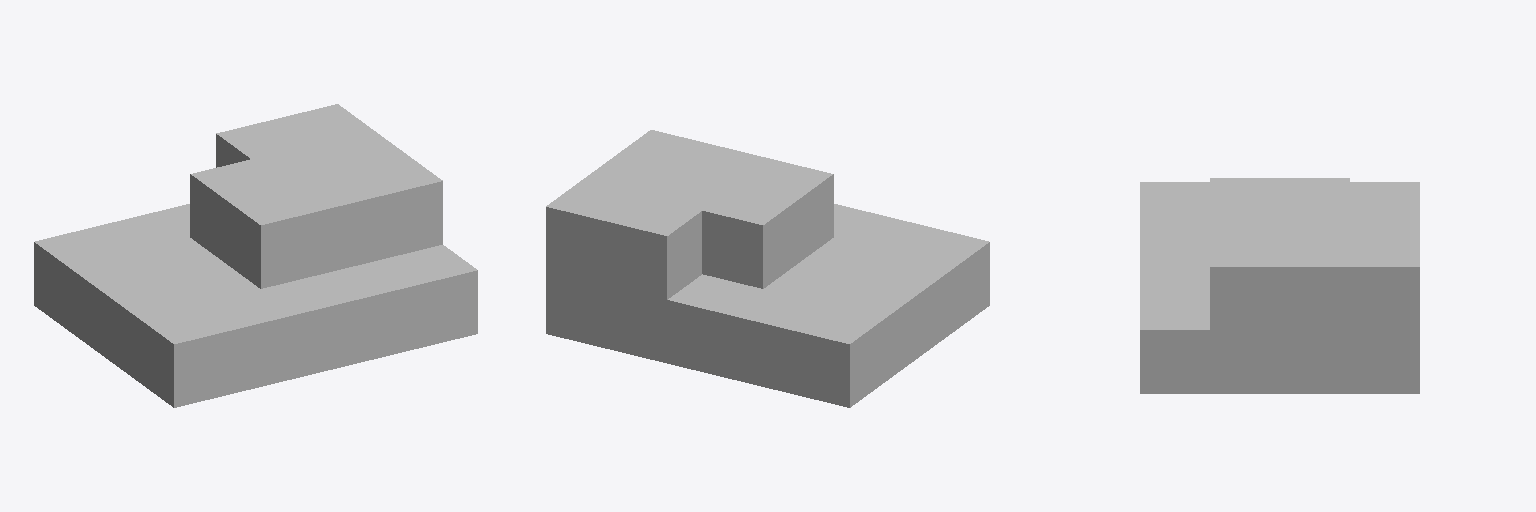
Rendered from rock02.obj.
3 renders of one model, left to right at view 1: azimuth 30°, elevation 25°; view 2: azimuth 150°, elevation 25°; view 3: azimuth 270°, elevation 25°, orthographic.
Visible parts, largest first — view 1: object 1; view 2: object 1; view 3: object 1.
Boxes of the visible parts, x1=… form: object 1: x1=34, y1=104, x2=477, y2=407; object 1: x1=546, y1=130, x2=989, y2=407; object 1: x1=1140, y1=178, x2=1419, y2=393.
Bounding box in the file's own units: 0.5 × 0.2 × 0.4.